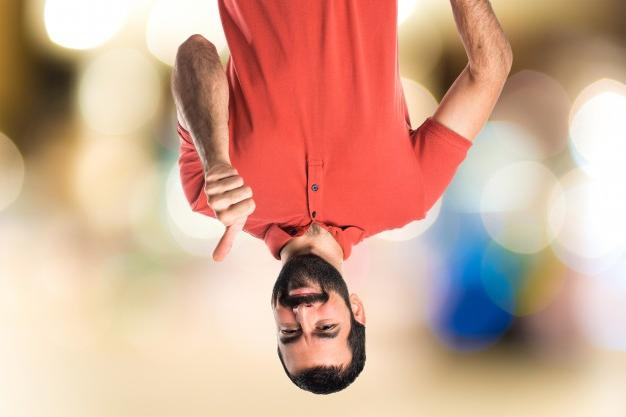thumbsdown: (204, 168, 256, 262)
